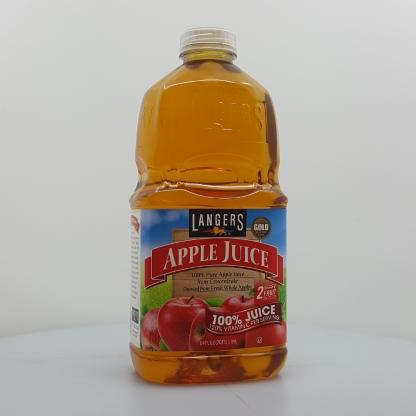-------------: (129, 27, 288, 384)
